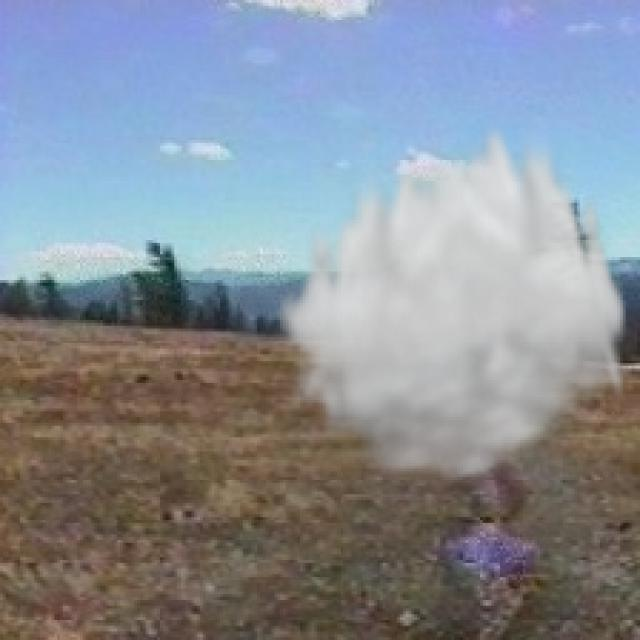smoke: (272, 111, 632, 488)
